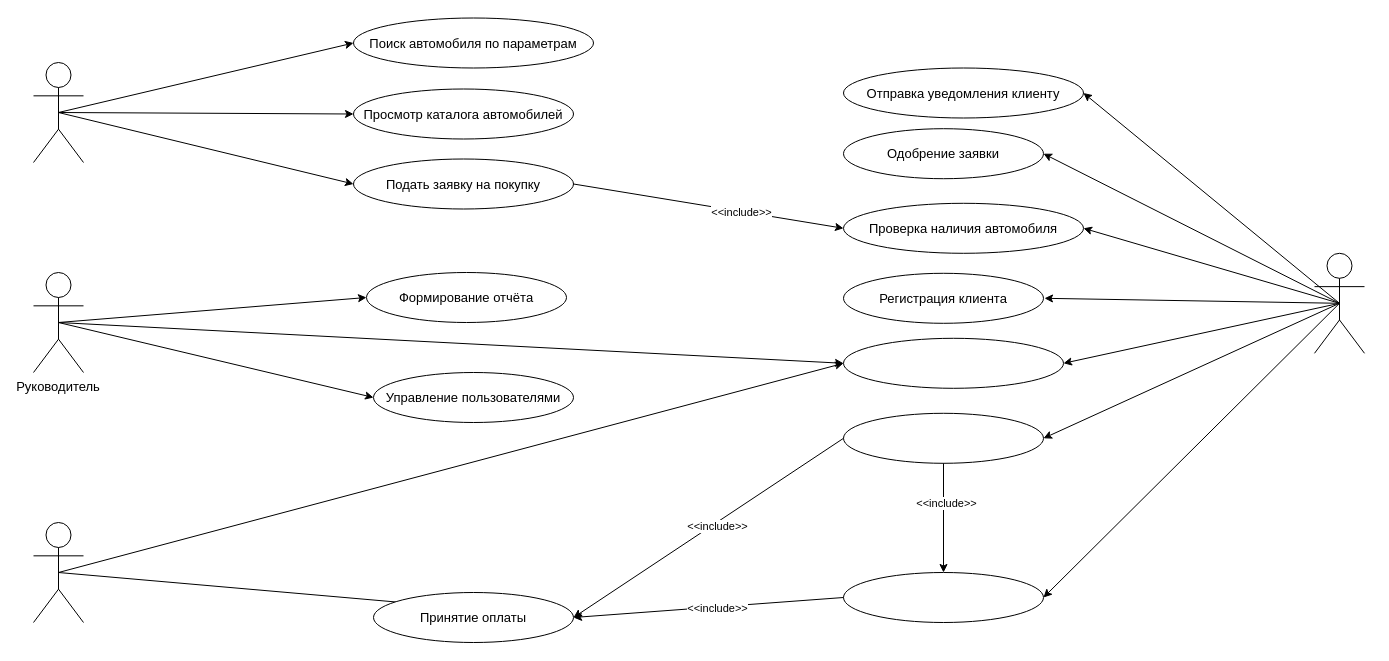
Some shapes in this 1389 by 661 pixel diagram are drawn without their labels. Here are the shapes that lost their labels. From the top down, the box of each, then its label:
(32, 62, 84, 162): Клиент
(1314, 252, 1364, 353): Менеджер
(842, 337, 1064, 388): Авторизация пользователя
(842, 412, 1044, 463): Оформление продажи
(32, 522, 84, 622): Кассир
(842, 572, 1044, 622): Формирование договора
